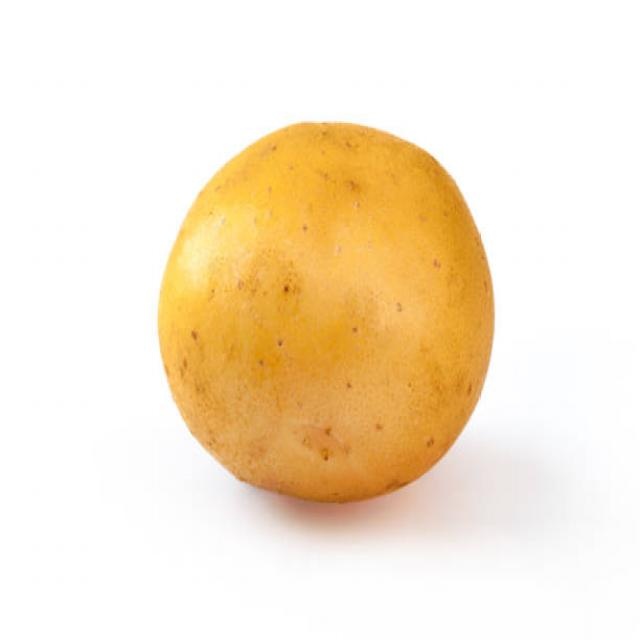Potato: (149, 112, 499, 511)
